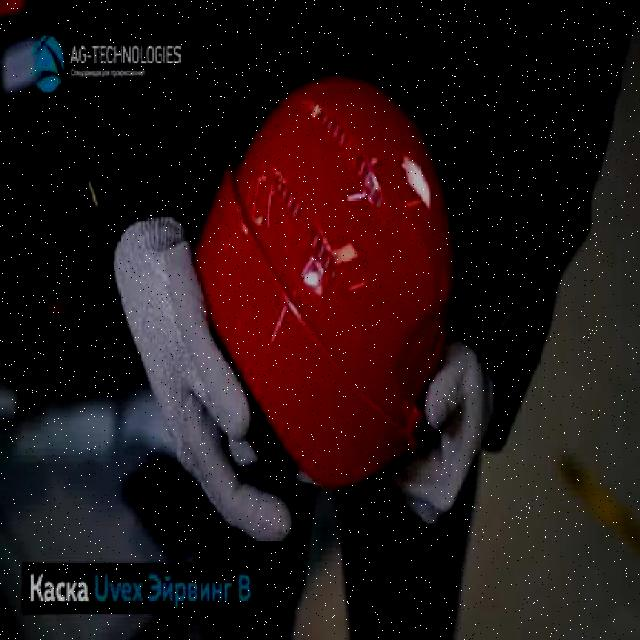Gloves: (114, 213, 294, 542), (378, 332, 496, 530)
Helmet: (192, 69, 460, 496)
